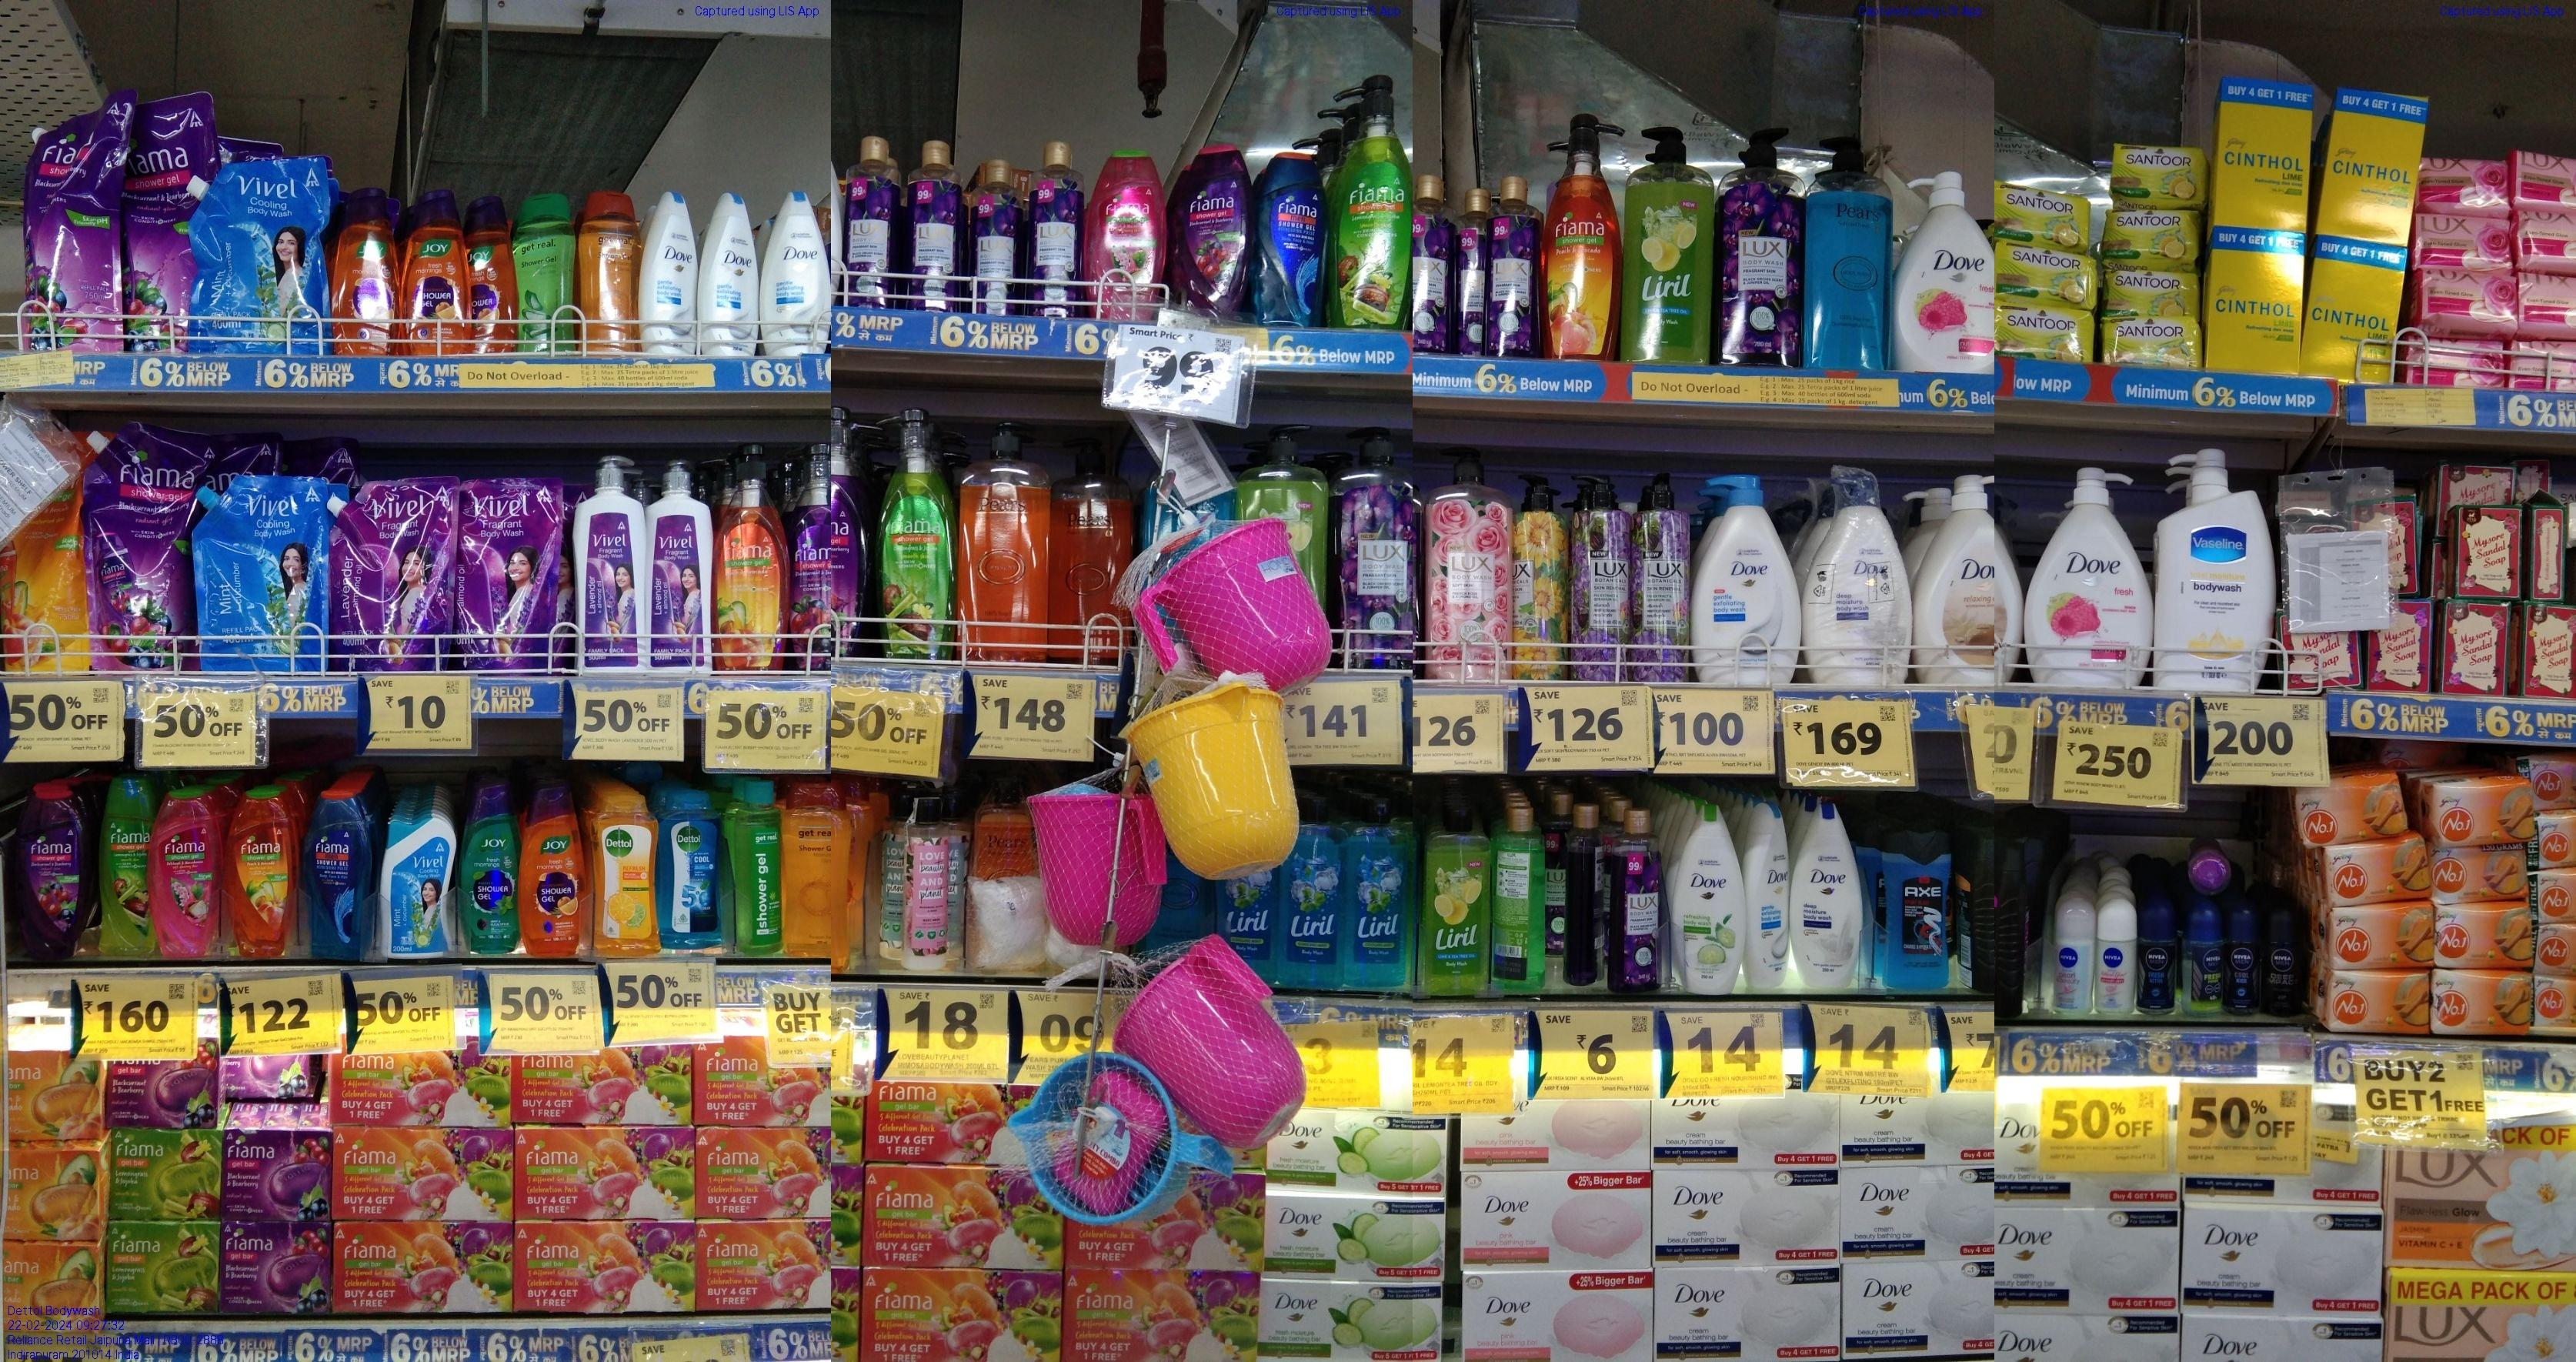Dettol_Bodywash_Cool: (664, 794, 721, 948)
Dettol_Bodywash_Refresh: (591, 791, 661, 955)
Dove_Deep_Moisture_Body_Wash_250ML: (1791, 801, 1862, 997)
Dove_Gentle_Exfoliating_Body_Wash_250ML: (762, 184, 828, 356), (702, 189, 756, 356), (647, 191, 699, 360), (1745, 805, 1787, 987)
Dove_Refreshing_Body_Wash_250ML: (1676, 806, 1741, 997)
Fiama_Shower_Gel_Lemongrass_and_Jojoba_250ML: (97, 782, 153, 956)
Fiama_Shower_Gel_Patchouli_and_Macadamia_250ML: (1092, 140, 1164, 320), (158, 786, 215, 955)
Fiama_Shower_Gel_Peach_and_Avocado_250ML: (227, 788, 293, 956)
Get_Real_Shower_Gel_Moisturising_Glycerin_300ML: (782, 781, 850, 961), (576, 188, 642, 355)
Joy_Shower_Gel_Mandarin_and_Lemongrass_250ML: (336, 177, 399, 355), (404, 189, 469, 356), (525, 788, 581, 955), (472, 198, 516, 356)
Joy_Shower_Gel_Mint_and_Eucalyptus_250ML: (462, 791, 521, 951)
Liril_Cooling_Mint_Body_Wash_250ML: (1344, 798, 1407, 985), (1279, 815, 1339, 987)
Liril_Lime_and_Tea_Tree_Oil_Body_Wash_250ML: (1423, 810, 1489, 994)
Lux_Black_Orchid_Scent_and_Juniper_Oil_Body_Wash_245ML: (903, 136, 963, 312), (1027, 140, 1087, 315), (1487, 176, 1540, 360), (966, 159, 1026, 314), (1612, 806, 1659, 994), (845, 135, 896, 305)
